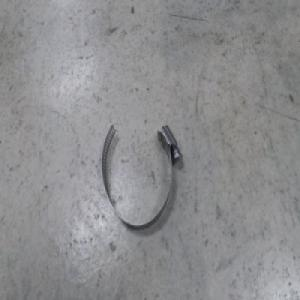AdjustableClamp: (100, 120, 181, 229)
